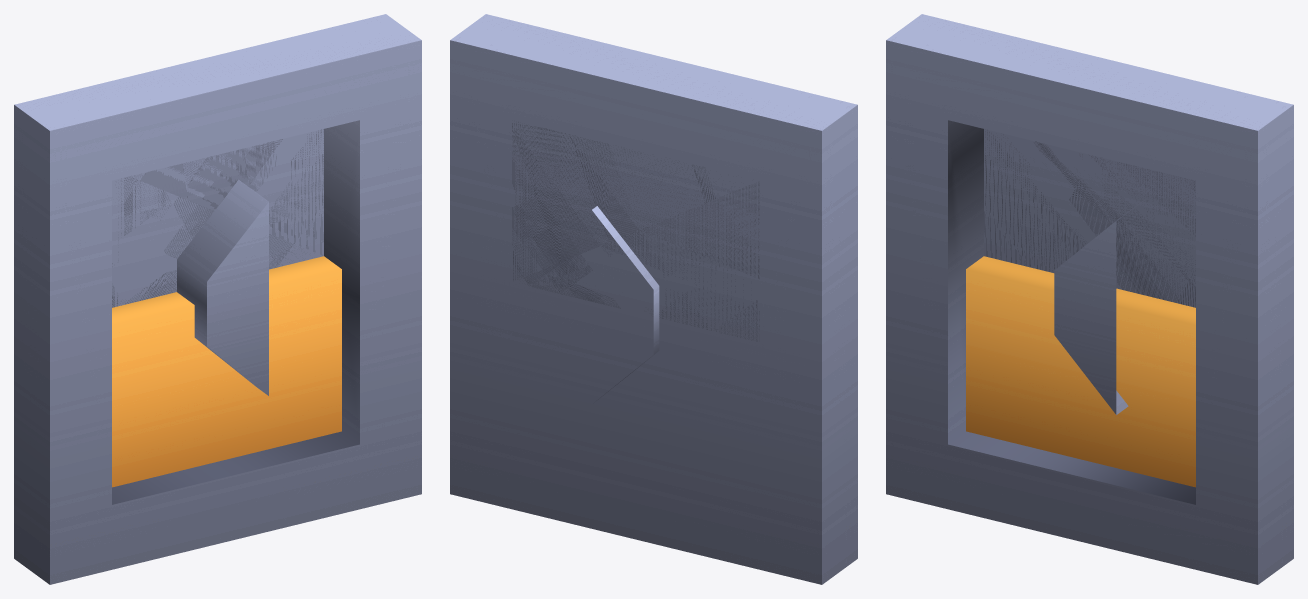
The model's file is door-double-closed.glb.
The picture shows the model from 3 angles, left to right: view 1: azimuth 30°, elevation 25°; view 2: azimuth 150°, elevation 25°; view 3: azimuth 330°, elevation 25°; orthographic projection.
Visible parts, largest first — view 1: door-double-closed, door-double-closed.001; view 2: door-double-closed, door-double-closed.001; view 3: door-double-closed, door-double-closed.001.
Boxes of the visible parts, x1,y1,x2,y2 form: door-double-closed: (14,14,421,584); door-double-closed.001: (177,180,268,395); door-double-closed: (450,14,857,584); door-double-closed.001: (592,206,659,403); door-double-closed: (886,14,1293,584); door-double-closed.001: (1054,200,1144,414).
Size of the model in its own units: 1.8 by 2.1 by 0.3469.
Materials: 1 (1 with a texture image).
